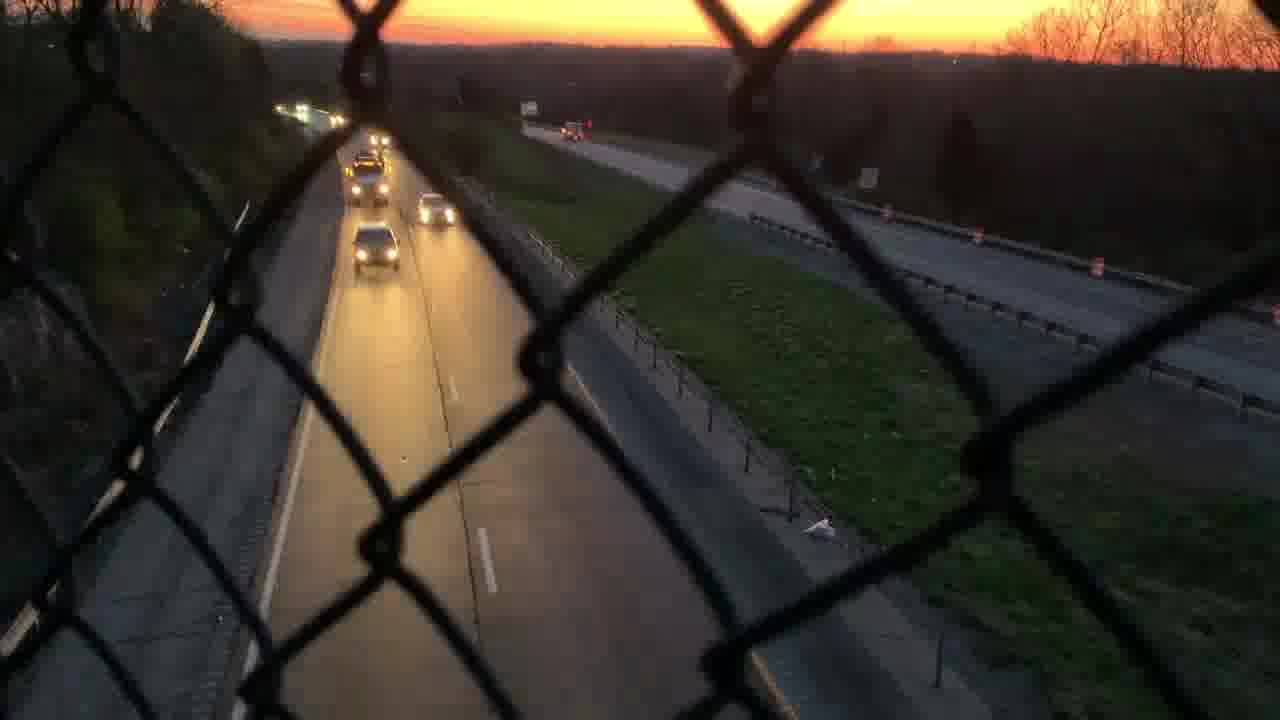heavyTruck: (342, 148, 396, 209)
smallCar: (349, 221, 408, 277), (412, 189, 457, 230)
